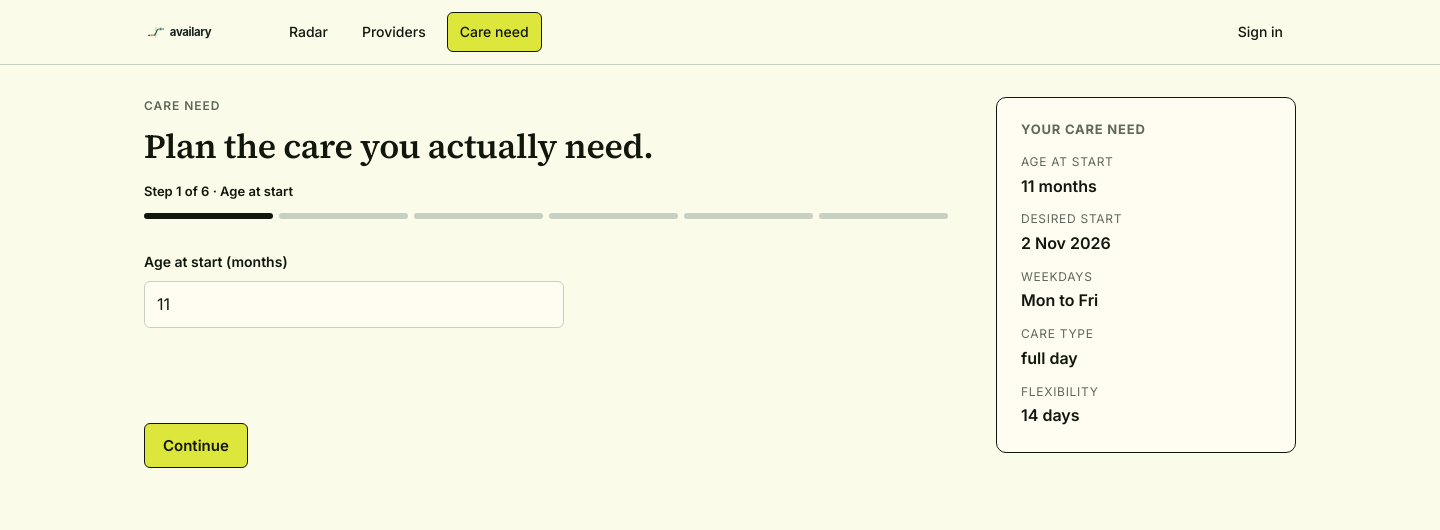
Test: care need wizard validates inline
Replace the text in the number field labelled "Age at start (months)" with "999": (354, 304) 144,281 -> 564,328
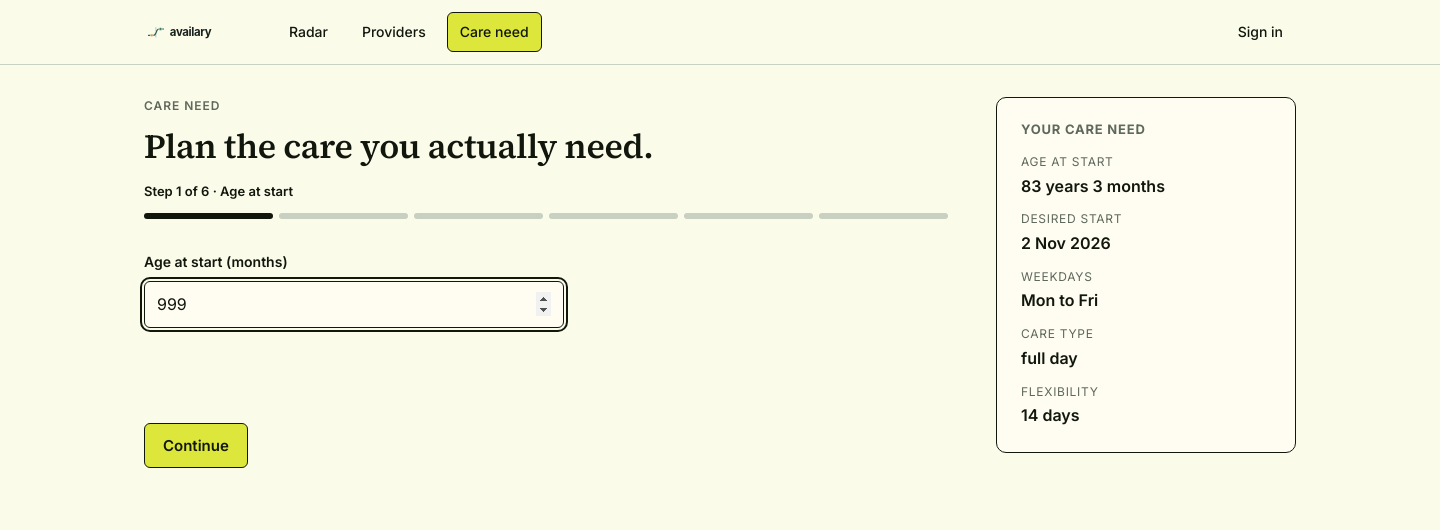
Click the button "Continue": (196, 446) 144,423 -> 248,468
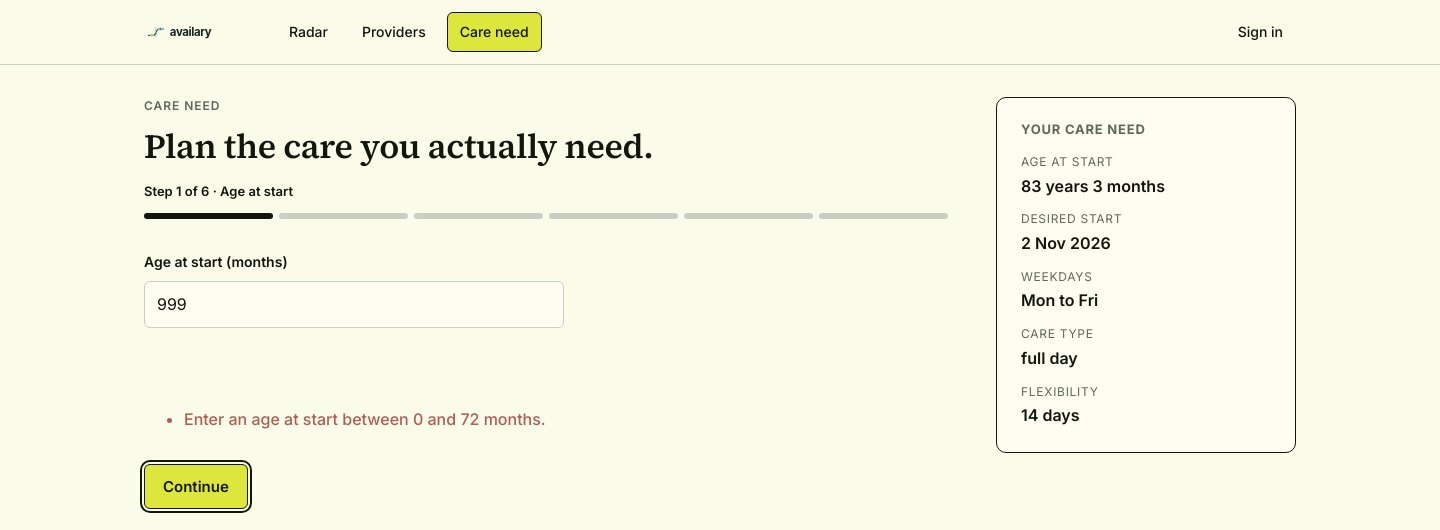
Expected: the message shows "between 0 and 72", 184,409 -> 546,429
